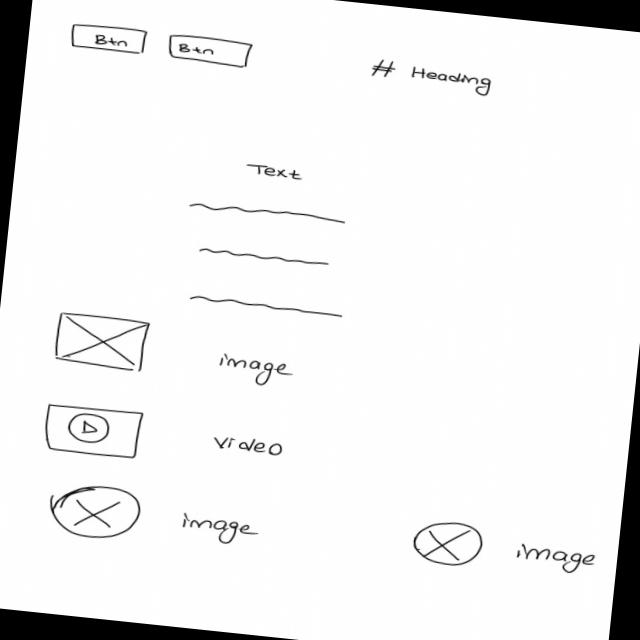button: (166, 32, 253, 69), (67, 20, 150, 56)
image: (50, 308, 151, 374), (44, 478, 145, 544), (409, 516, 486, 569)
label: (367, 55, 495, 99), (212, 351, 298, 392), (510, 540, 600, 578), (176, 510, 259, 550), (210, 432, 286, 458), (243, 160, 304, 182)
text: (186, 290, 346, 322), (187, 198, 350, 228), (198, 243, 334, 270)
